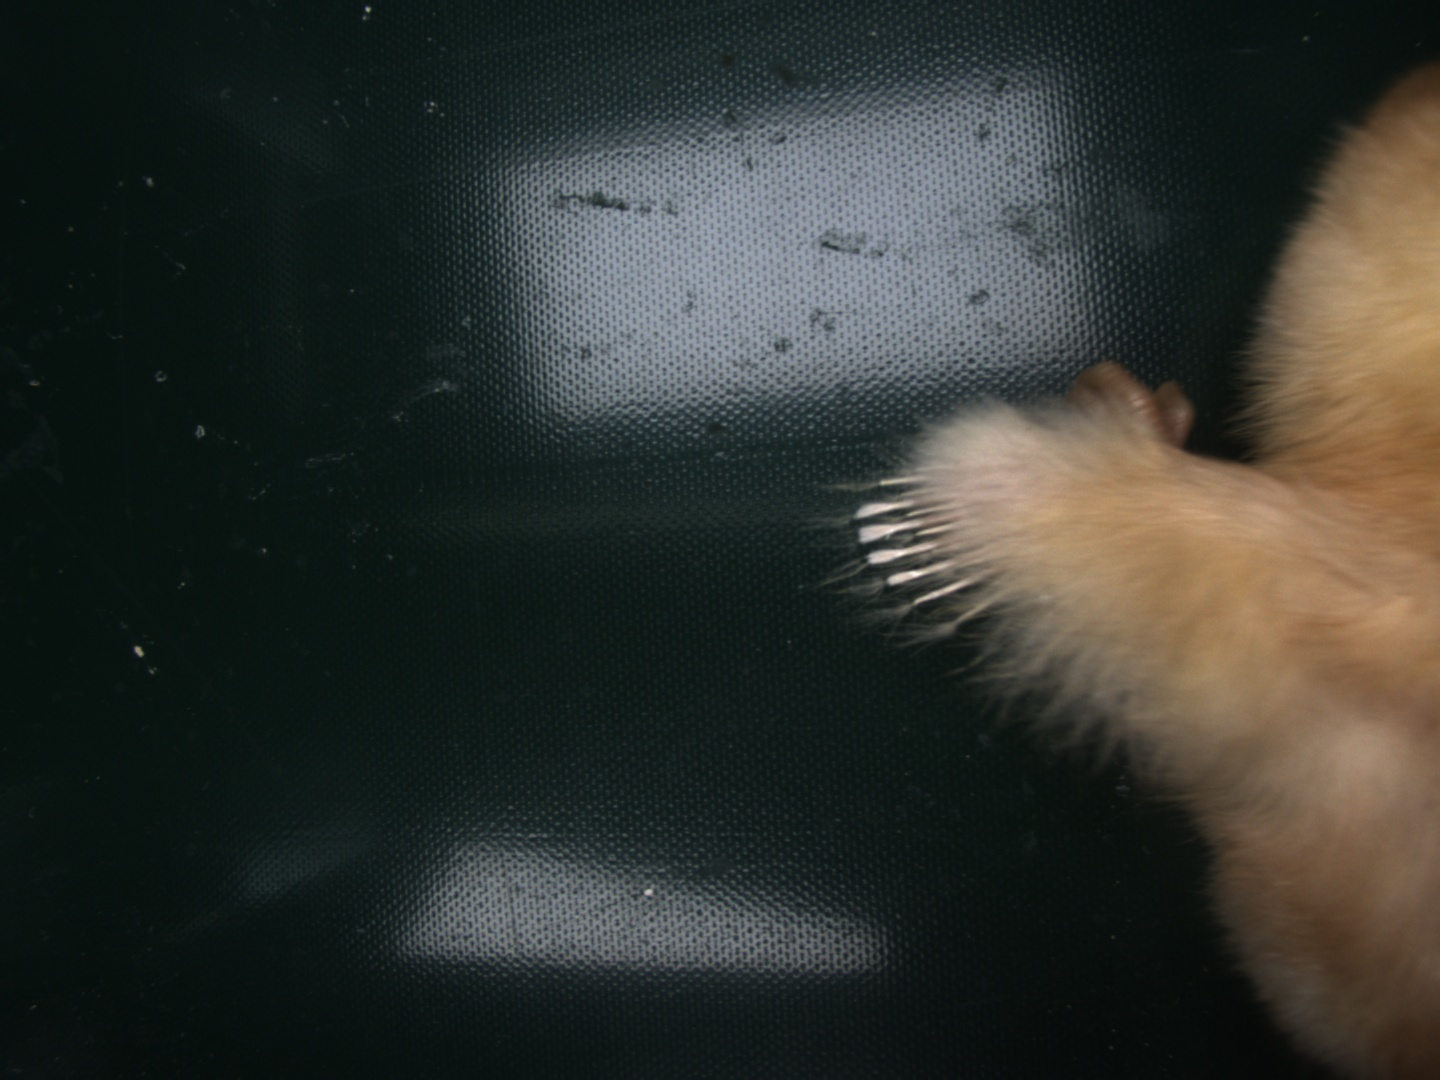female: (850, 471, 1010, 627)
